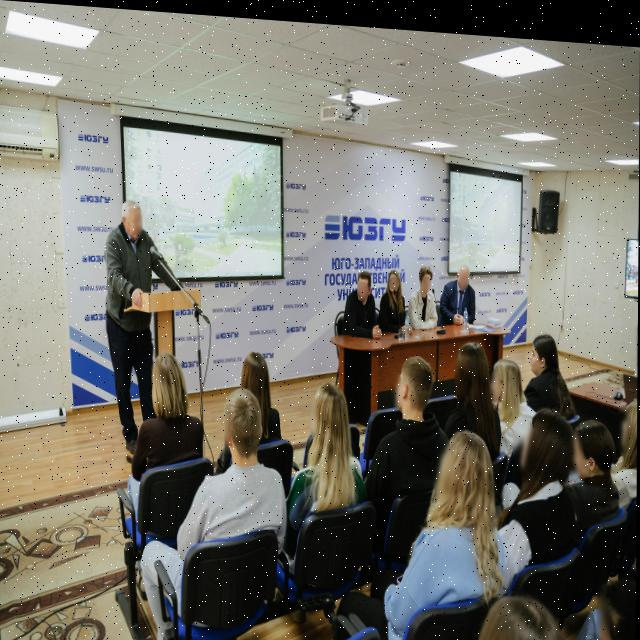Person: (390, 419, 505, 633), (491, 392, 580, 592), (194, 384, 285, 562), (97, 167, 164, 399), (118, 341, 203, 522), (382, 341, 447, 497), (306, 367, 364, 522), (472, 572, 573, 640), (570, 400, 619, 526), (491, 345, 543, 450), (524, 304, 574, 400), (454, 326, 493, 449), (242, 343, 290, 442), (582, 558, 636, 640), (342, 258, 379, 343), (406, 254, 448, 328), (381, 256, 412, 354), (618, 381, 638, 508), (456, 245, 480, 307)
